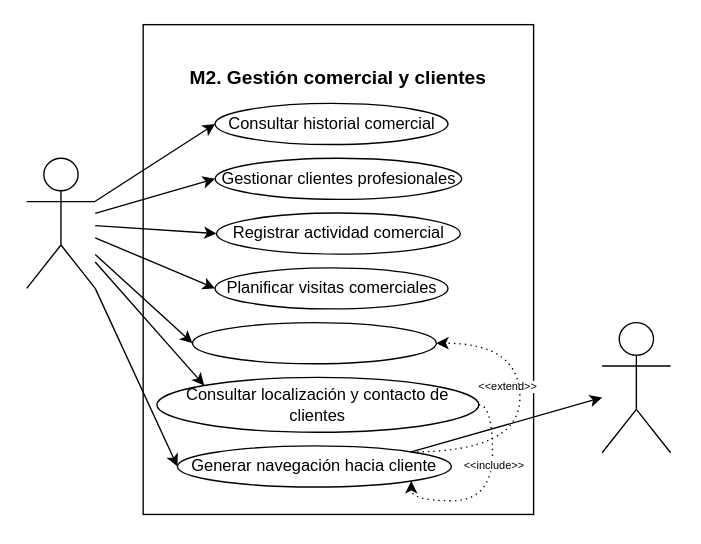
Some shapes in this 701 by 544 pixel diagram are drawn without their labels. Each missing label, with the centre of its shape:
Comercial: point (60, 222)
Planificar rutas comerciales: point (313, 342)
Servicio Externo de navegación: point (636, 387)
